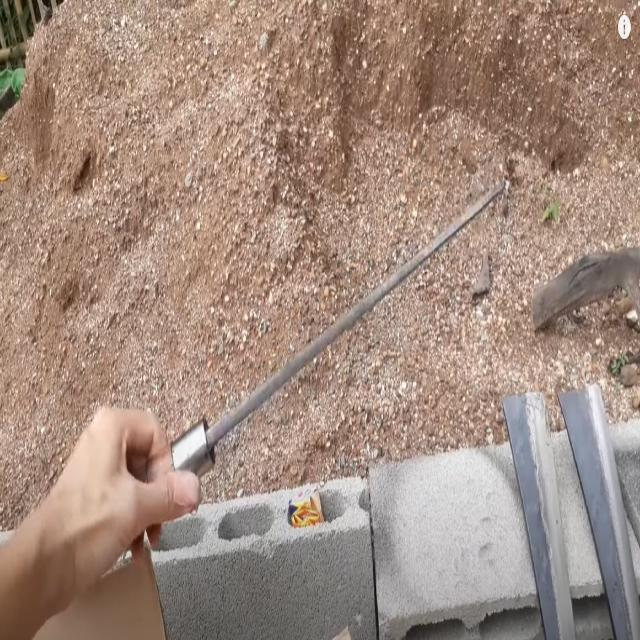eto: (0, 181, 505, 607)
